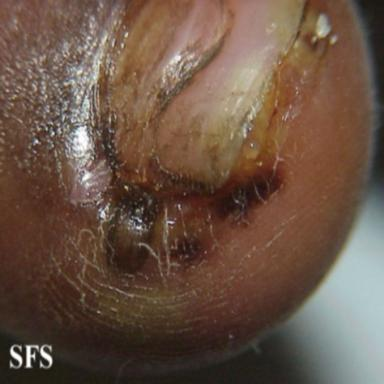Tungiasis: (292, 7, 338, 61)
